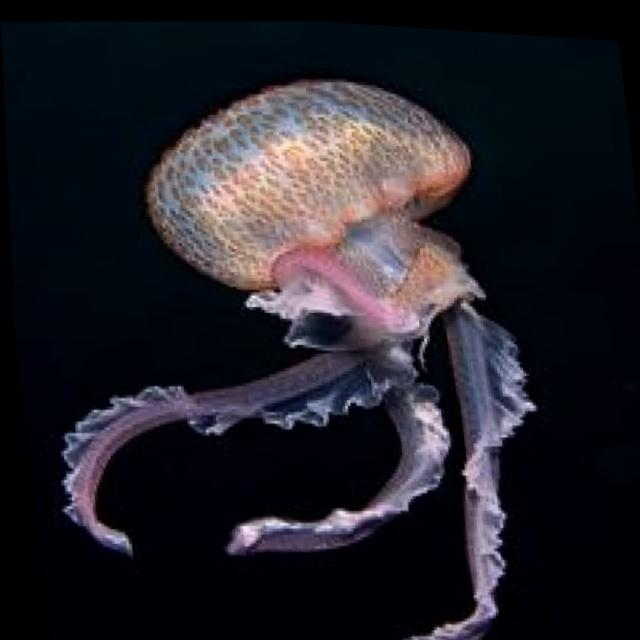Jellyfish: (16, 43, 568, 640)
